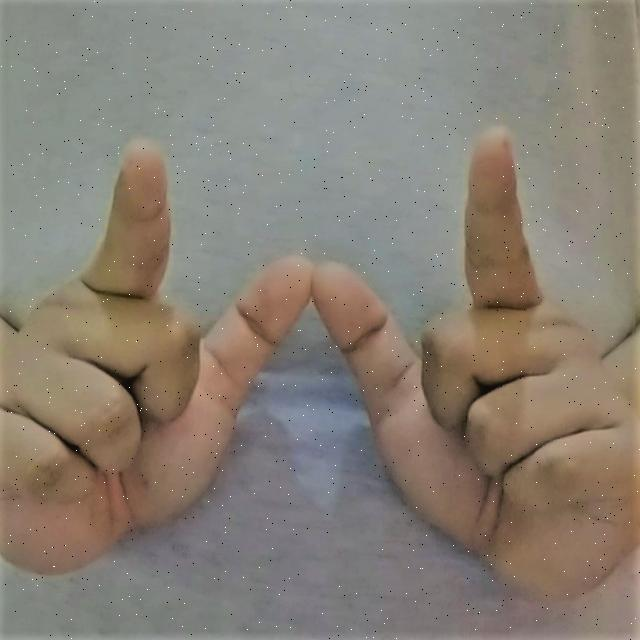W: (15, 116, 628, 614)
